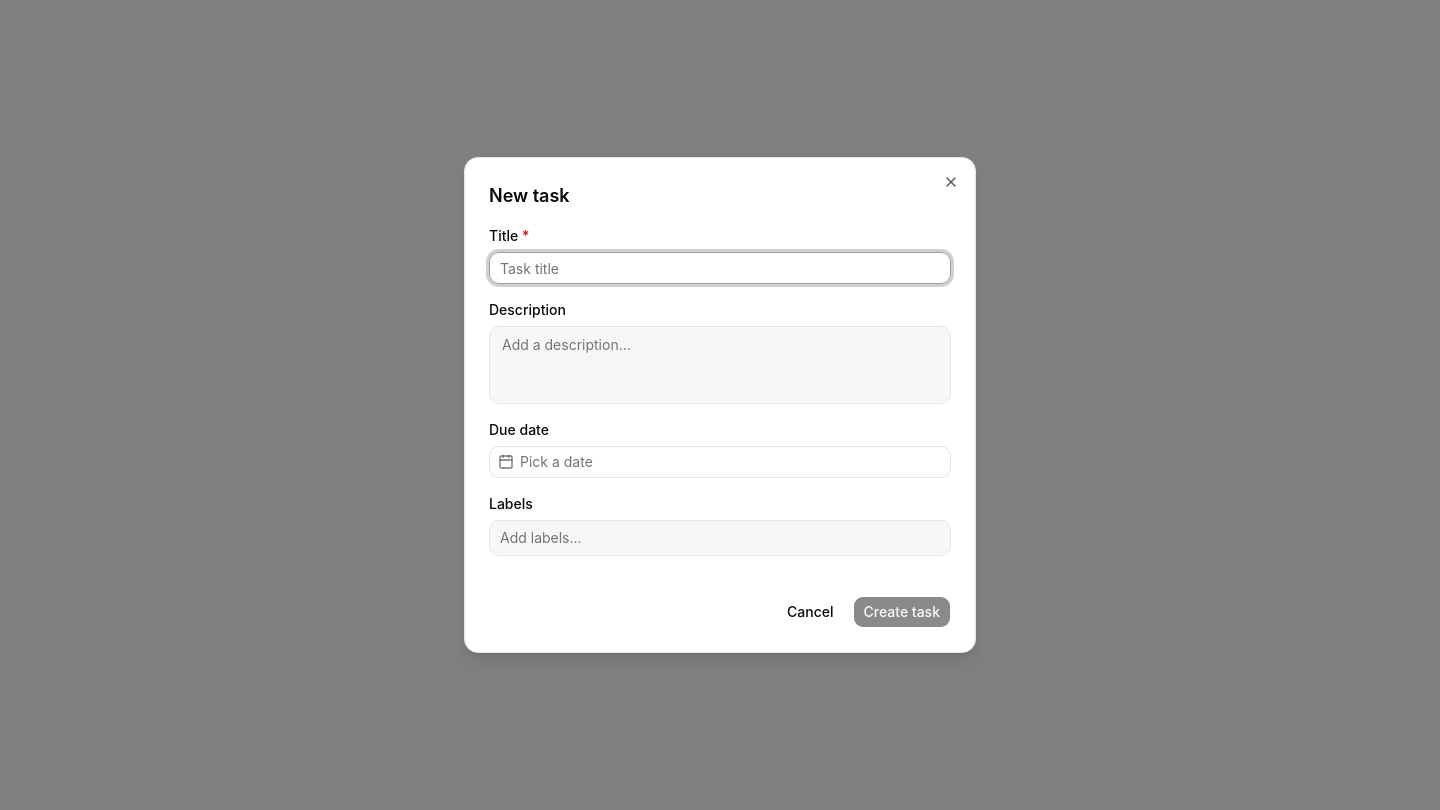
Test: CreateTaskModal › keeps the modal open and shows an error when submitting fails
Type "Write tests" into the field with placeholder "Task title" at (720,268), box top-left (489, 252), bottom-right (951, 284)
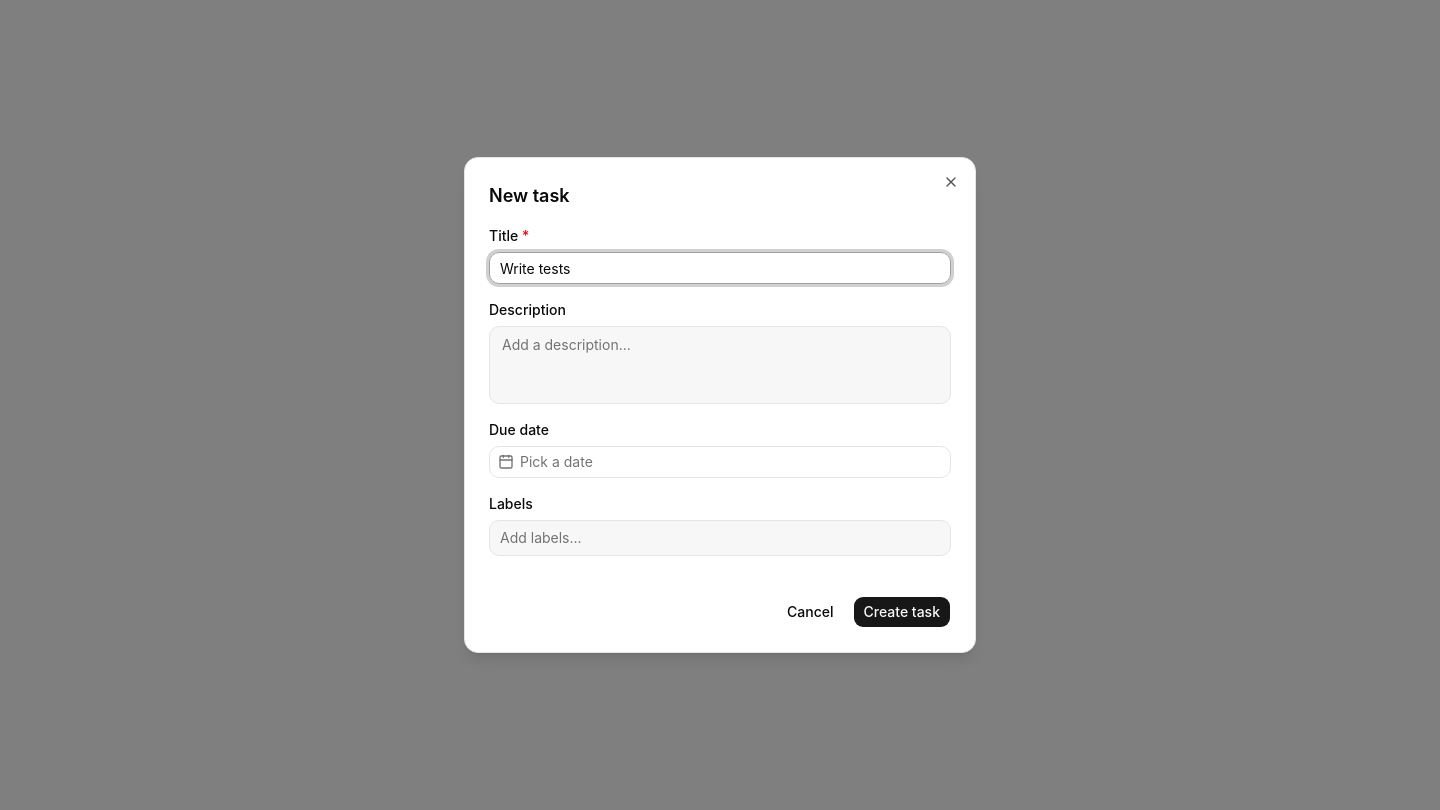
Click the button "Create task" at (902,612), box top-left (852, 596), bottom-right (951, 628)
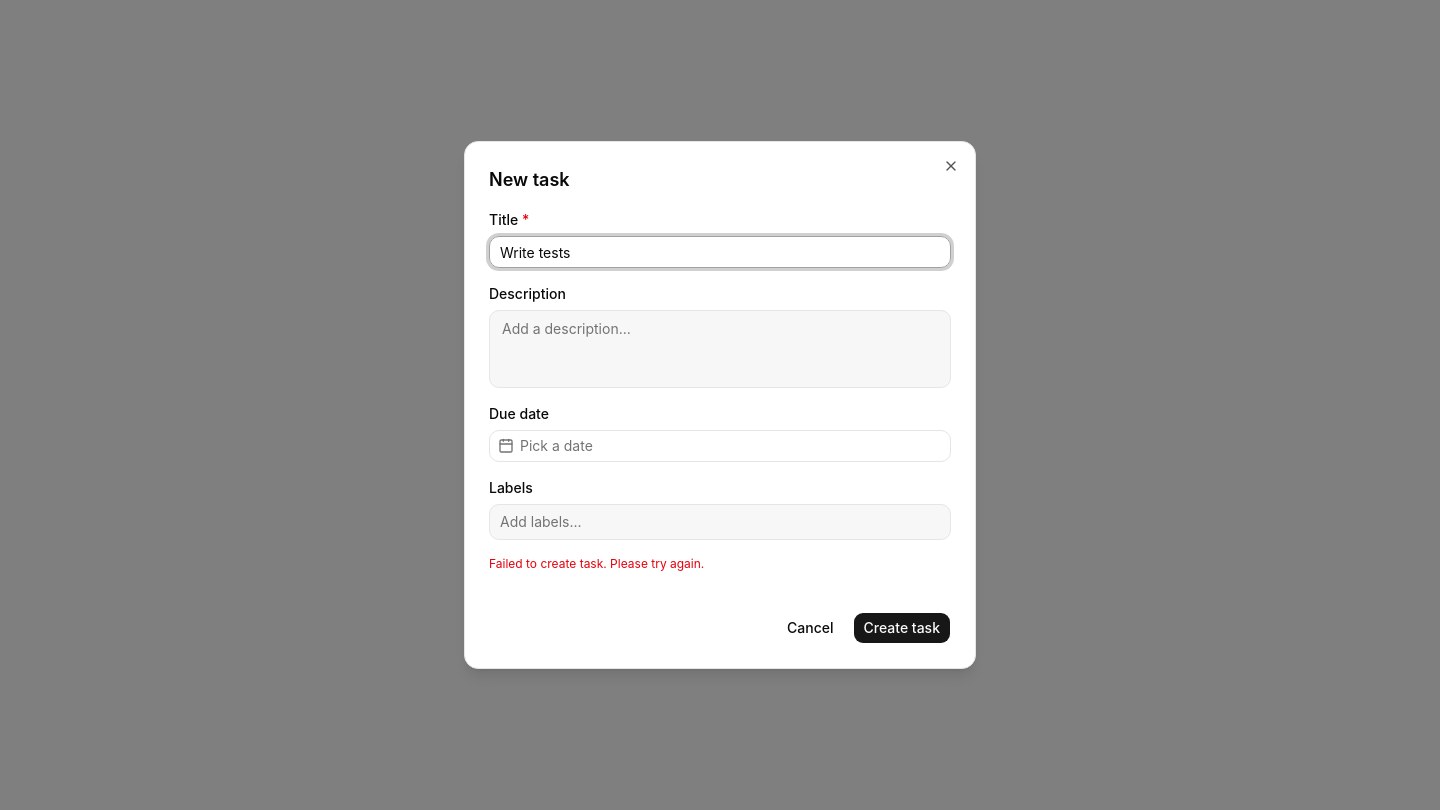
expect the text "Failed to create task. Please try again." is shown: met, box top-left (489, 556), bottom-right (704, 571)
